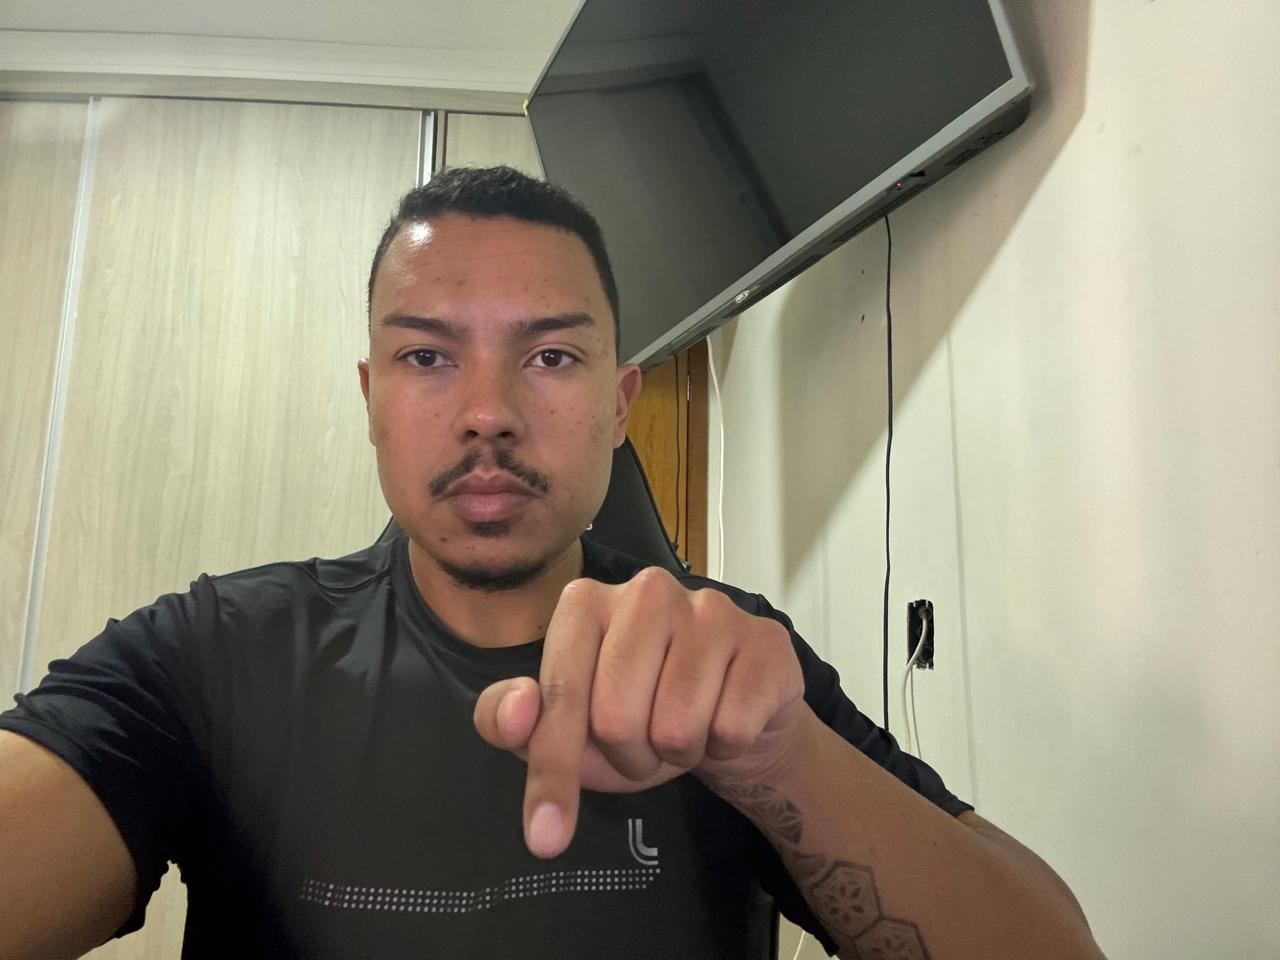q: (468, 542, 820, 861)
